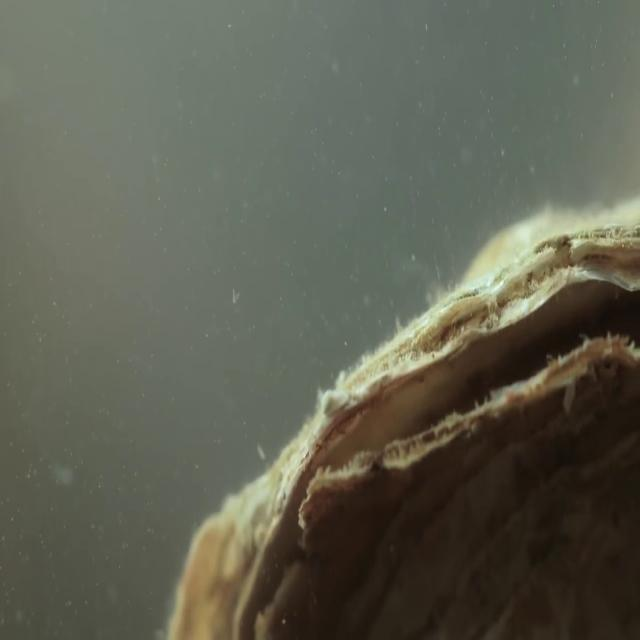Oyster-Closed: (167, 204, 639, 635)
